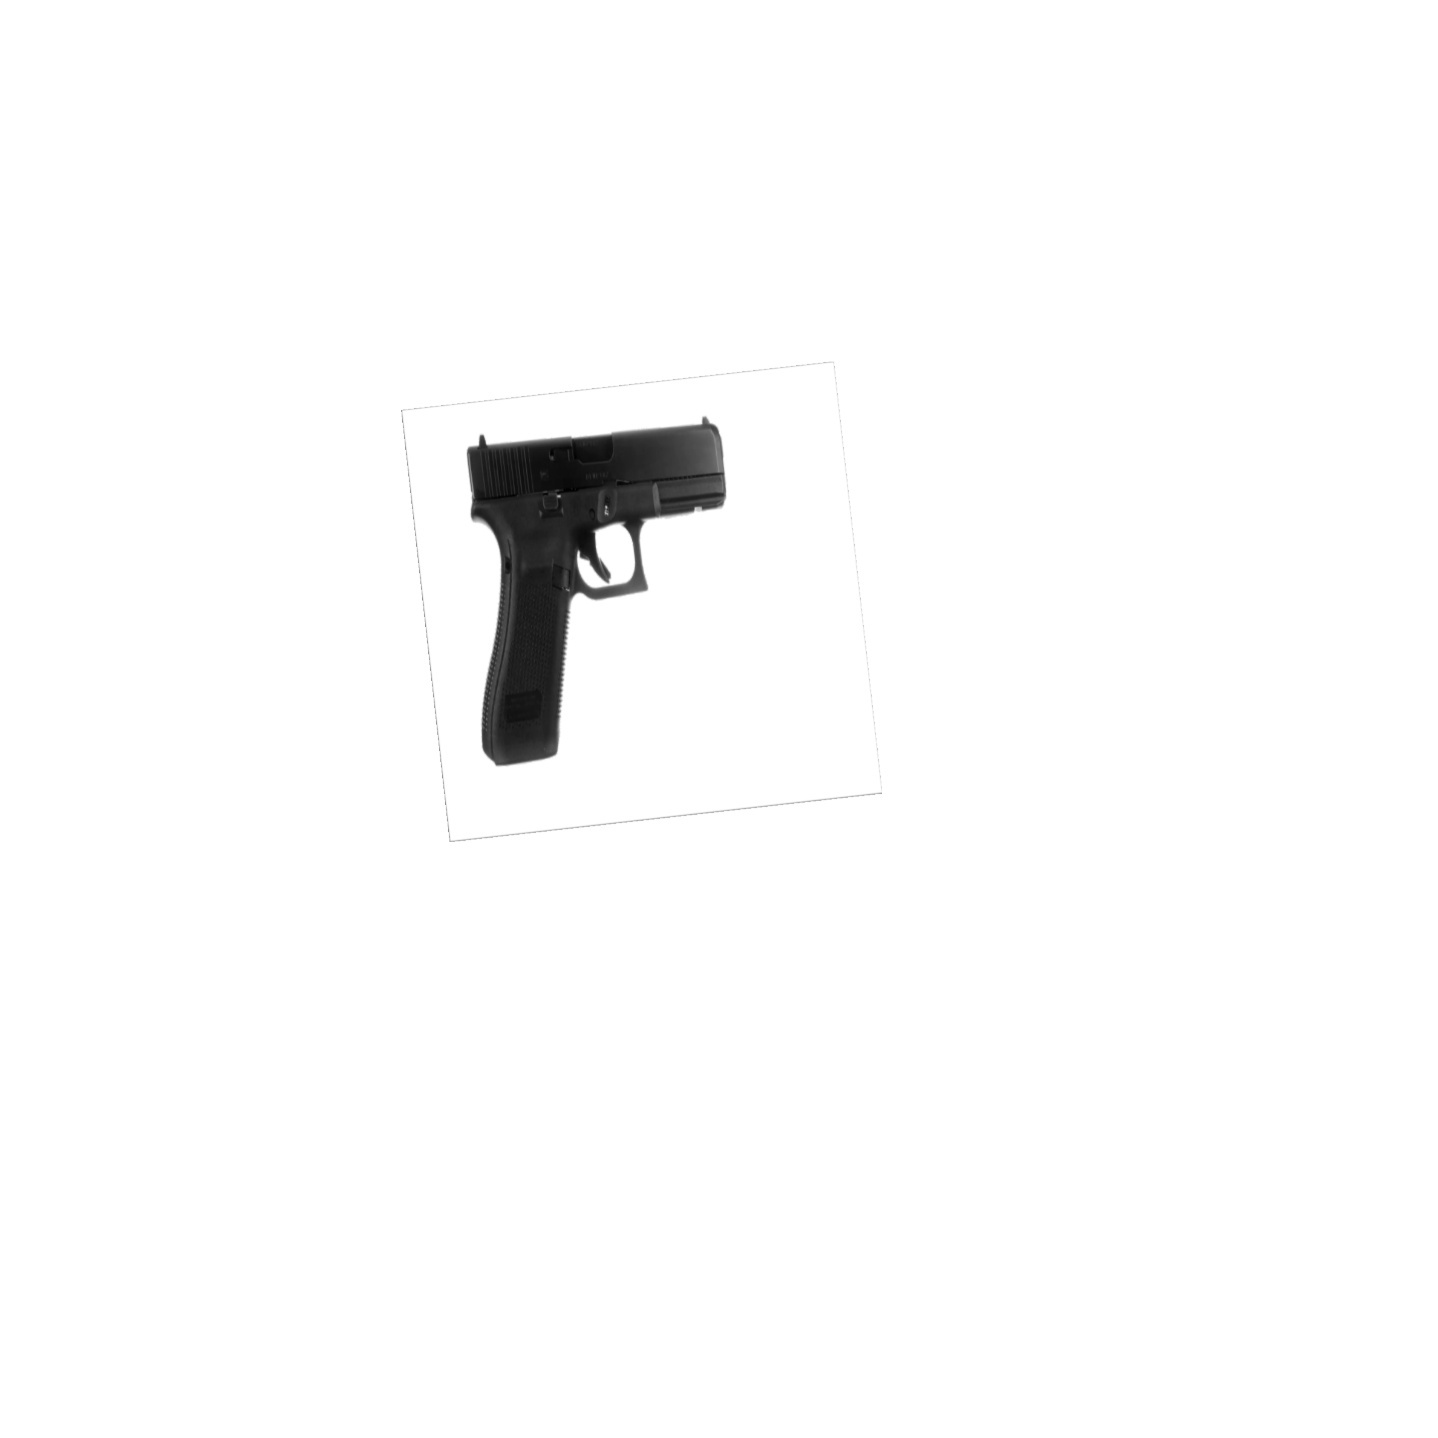gun: (456, 410, 787, 764)
